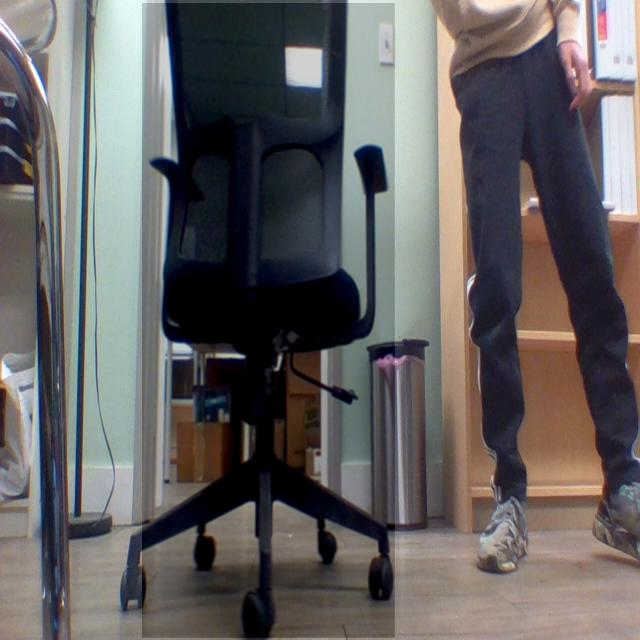black-chair: (142, 3, 396, 639)
